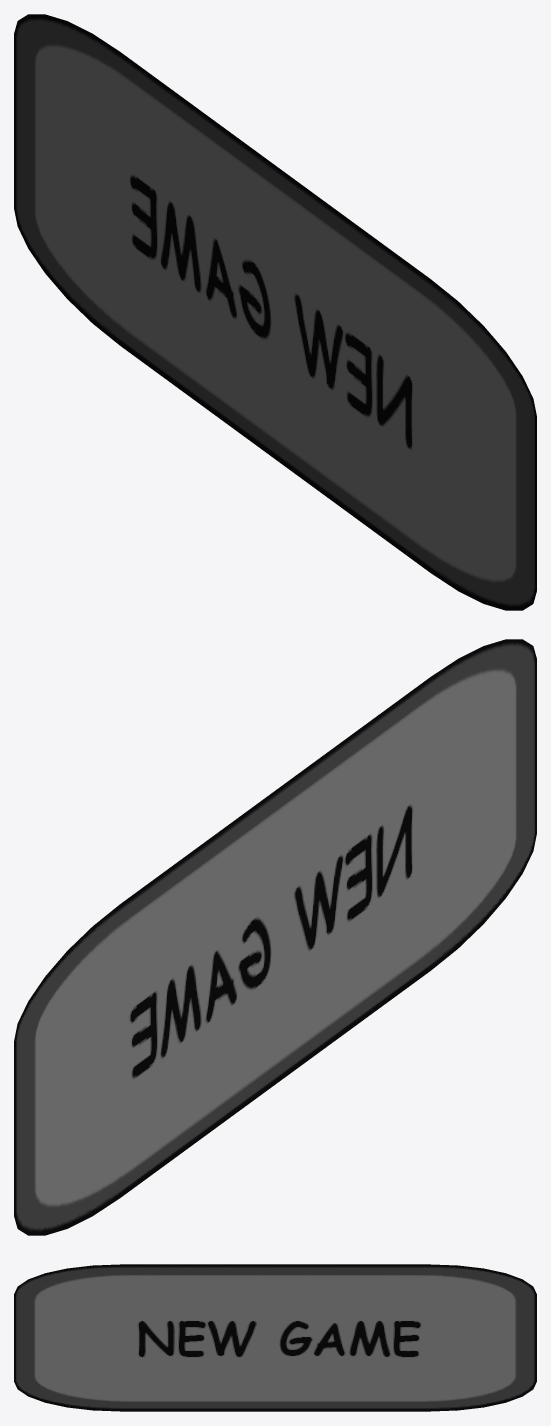
File: selectbarhover.fbx
3 views of the same model, one above another, from view 1: azimuth 30°, elevation 25°; view 2: azimuth 150°, elevation 25°; view 3: azimuth 270°, elevation 25° (orthographic). The views are drawn at different scales.
Parts seen in each view (by area): view 1: MENUSELECTHOVER; view 2: MENUSELECTHOVER; view 3: MENUSELECTHOVER.
Part boxes in pixels (x1,y1,x2,y2): MENUSELECTHOVER: [14, 14, 536, 610]; MENUSELECTHOVER: [14, 639, 536, 1235]; MENUSELECTHOVER: [14, 1264, 536, 1411].
Size of the model in its own units: 1.04e-05 by 137 by 442.
1 material, 1 textured.
